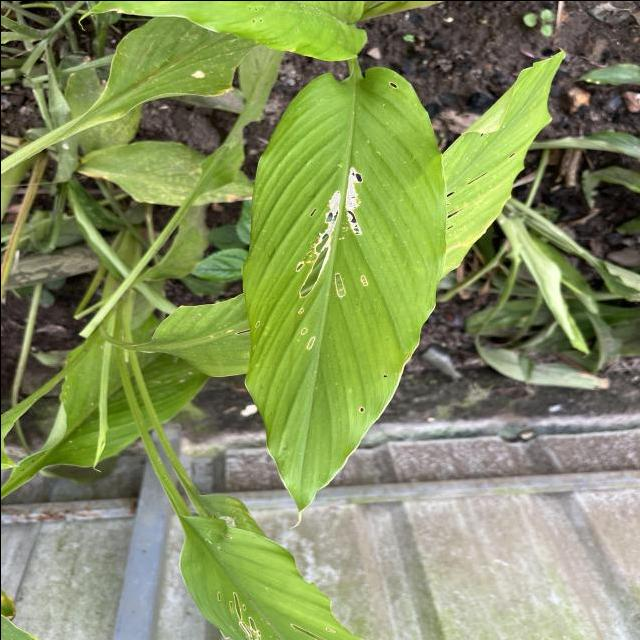Curcuma longa: (237, 58, 452, 530)
